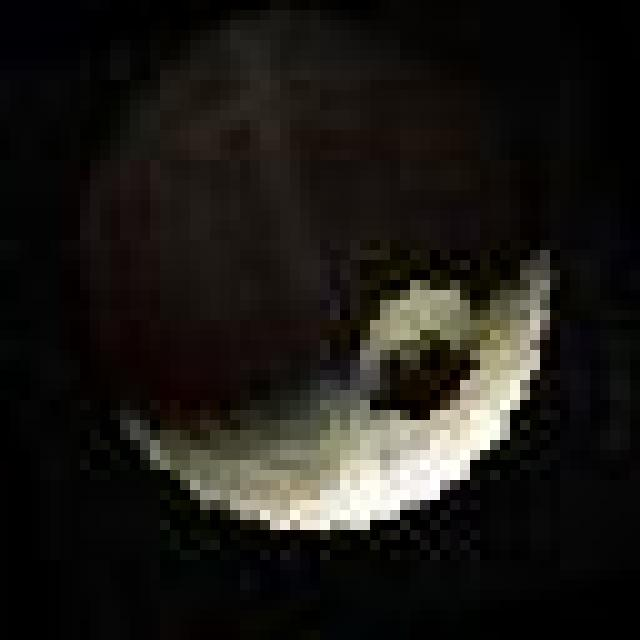Death Star: (74, 10, 572, 552)
